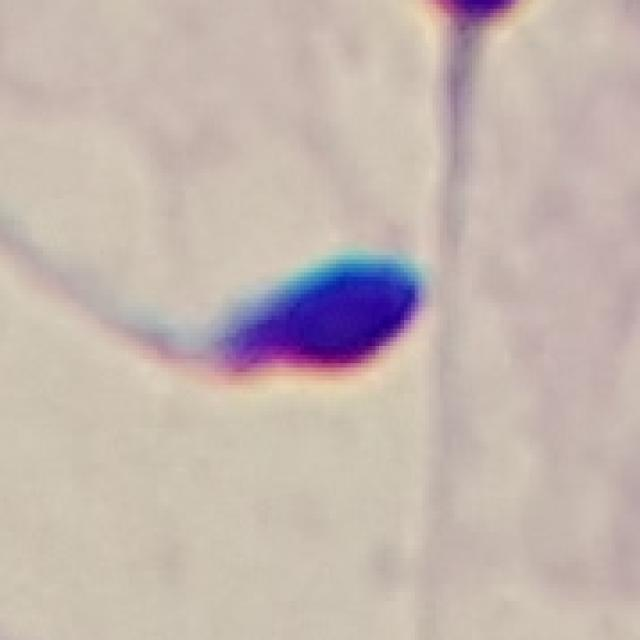abnormal sperm: (65, 236, 448, 383)
